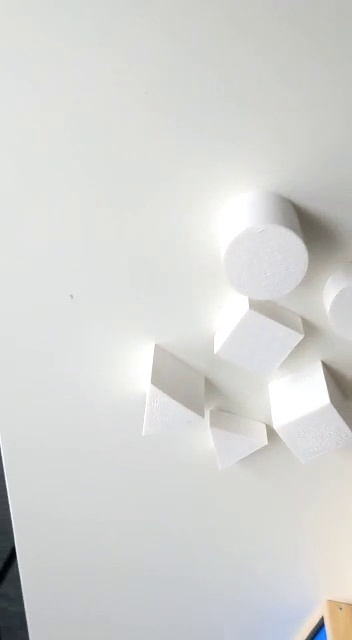Clyinder_short: (320, 263, 352, 345)
Cube: (264, 362, 352, 463)
Cube_short: (209, 293, 306, 385)
Cylinder: (211, 188, 313, 303)
Triangle: (137, 342, 211, 444)
Triangle_short: (206, 405, 272, 477)
